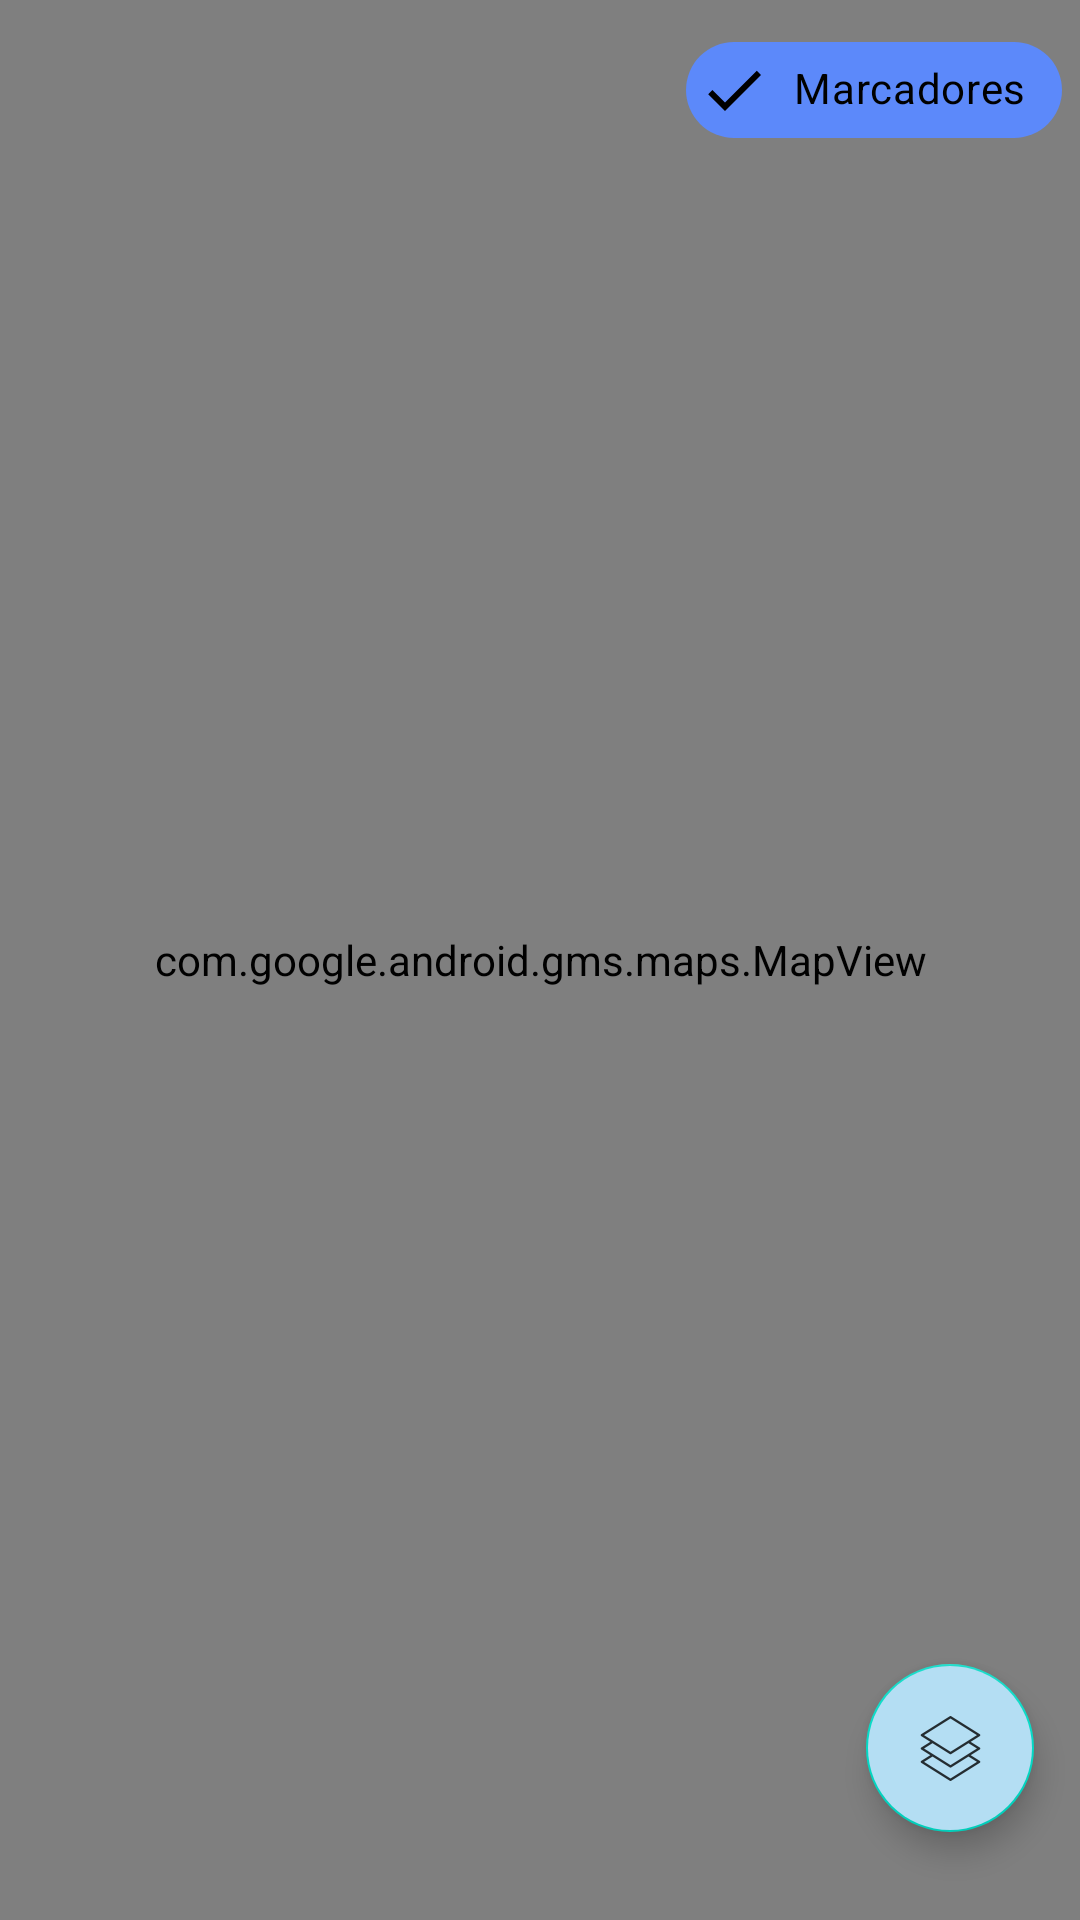

Named icons in this screenshot (1080px x 1920px) and their centers, (x=x, y=y):
FAB para desplegar tipos de mapa: (x=950, y=1748)
